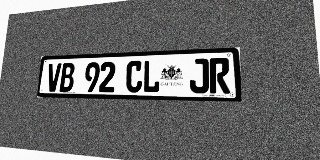2: (99, 61, 116, 92)
9: (84, 62, 100, 92)
B: (59, 63, 75, 92)
C: (125, 60, 143, 93)
J: (190, 58, 209, 93)
L: (142, 60, 160, 93)
R: (209, 58, 230, 94)
V: (46, 63, 61, 92)
